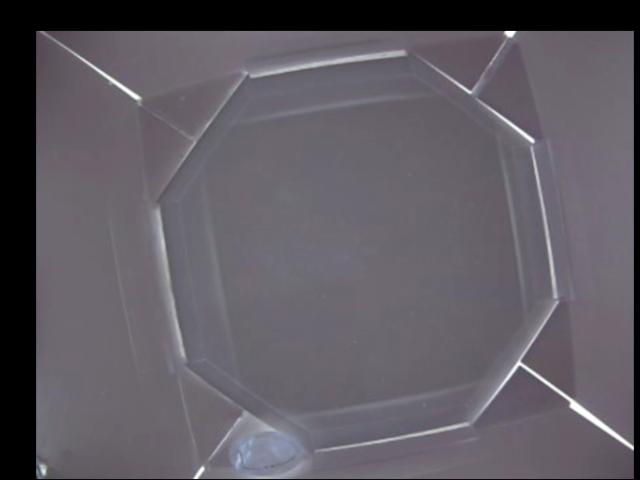Pebble: (229, 429, 308, 479)
